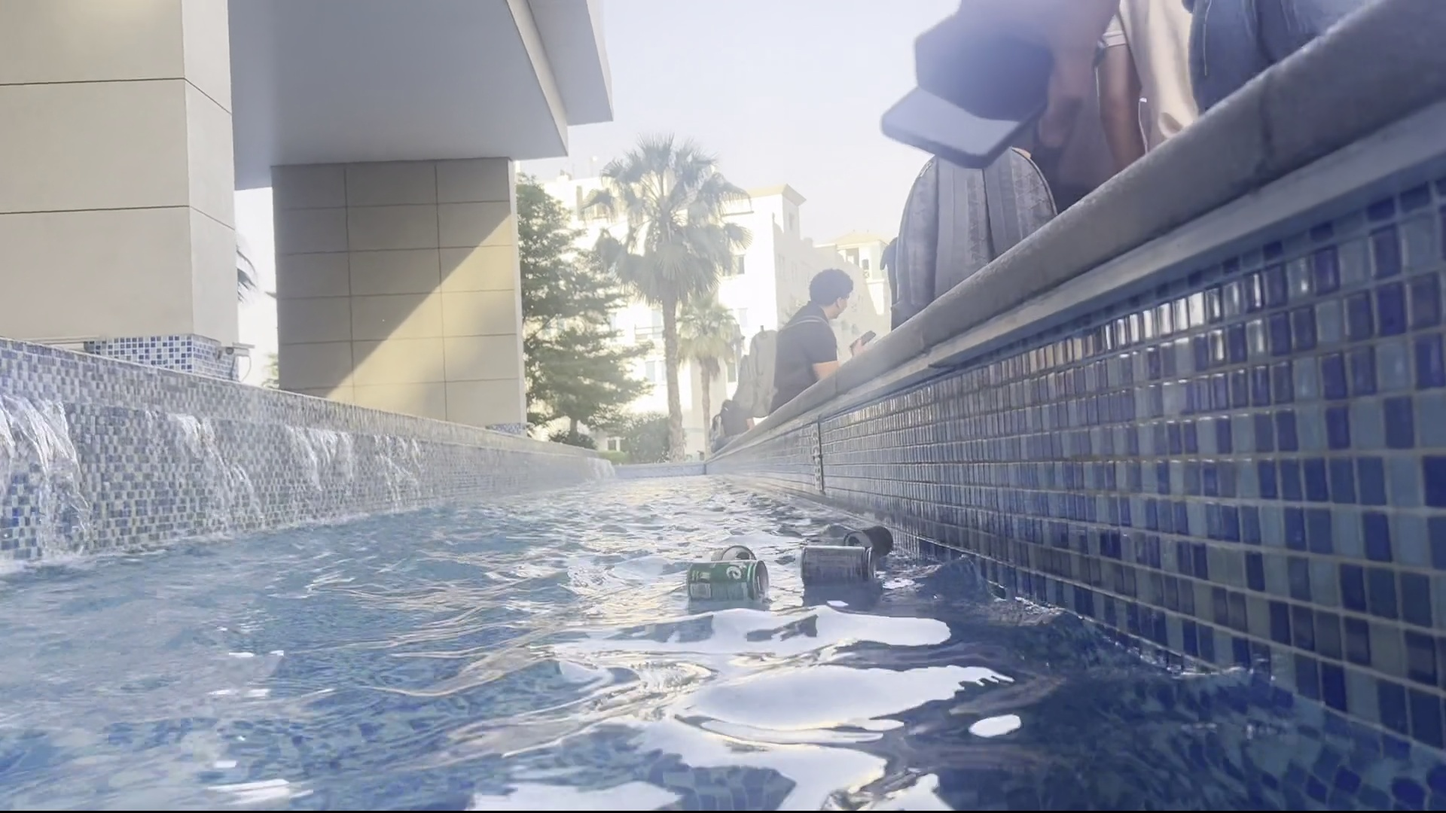debris: (680, 550, 773, 611), (794, 539, 877, 588), (843, 520, 898, 559), (712, 538, 756, 571)
